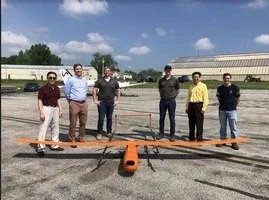maybay_khongnguoilai: (21, 116, 251, 176)
